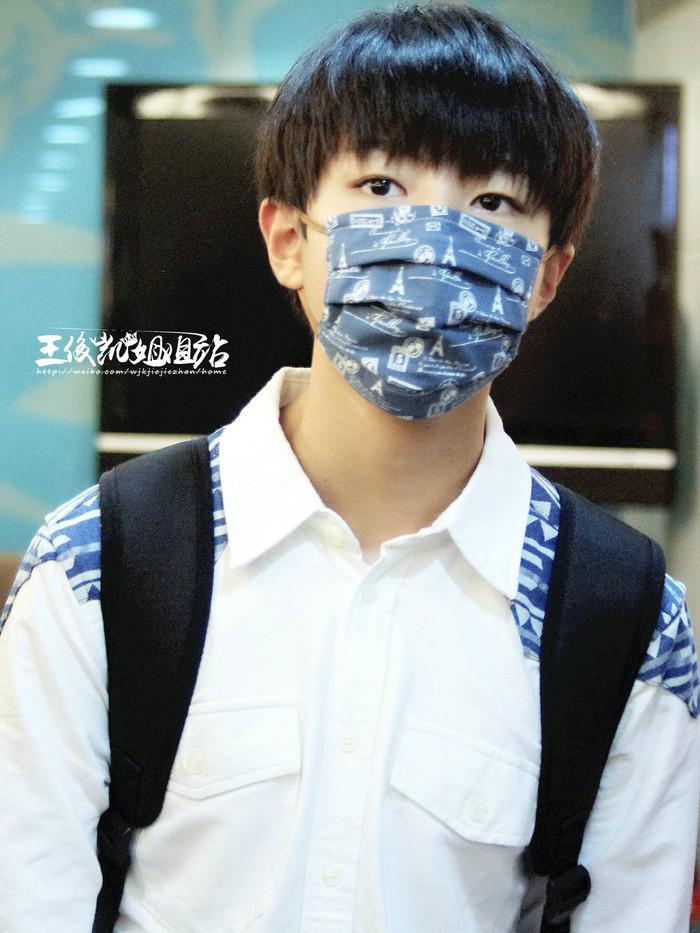OK: (292, 130, 562, 400)
